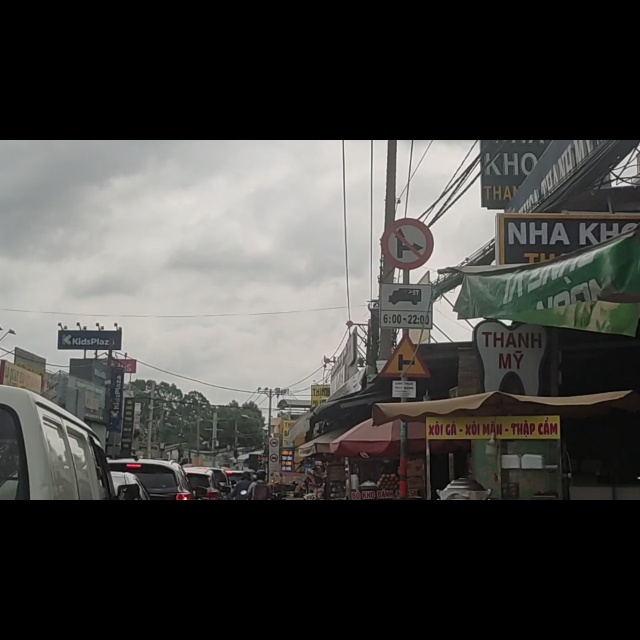bien_cam: (383, 140, 432, 229), (379, 257, 434, 332), (381, 347, 433, 421)
